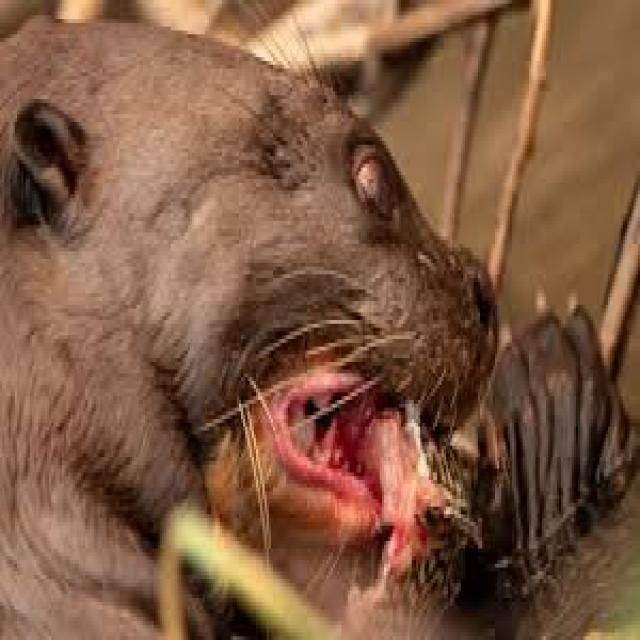Otter: (0, 15, 497, 568)
